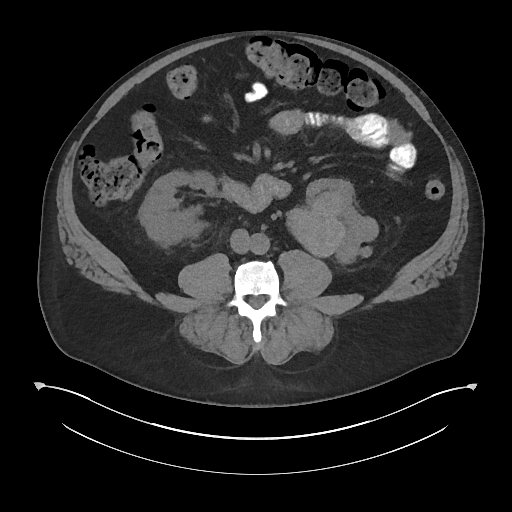Lesion: (285, 206, 346, 259)
